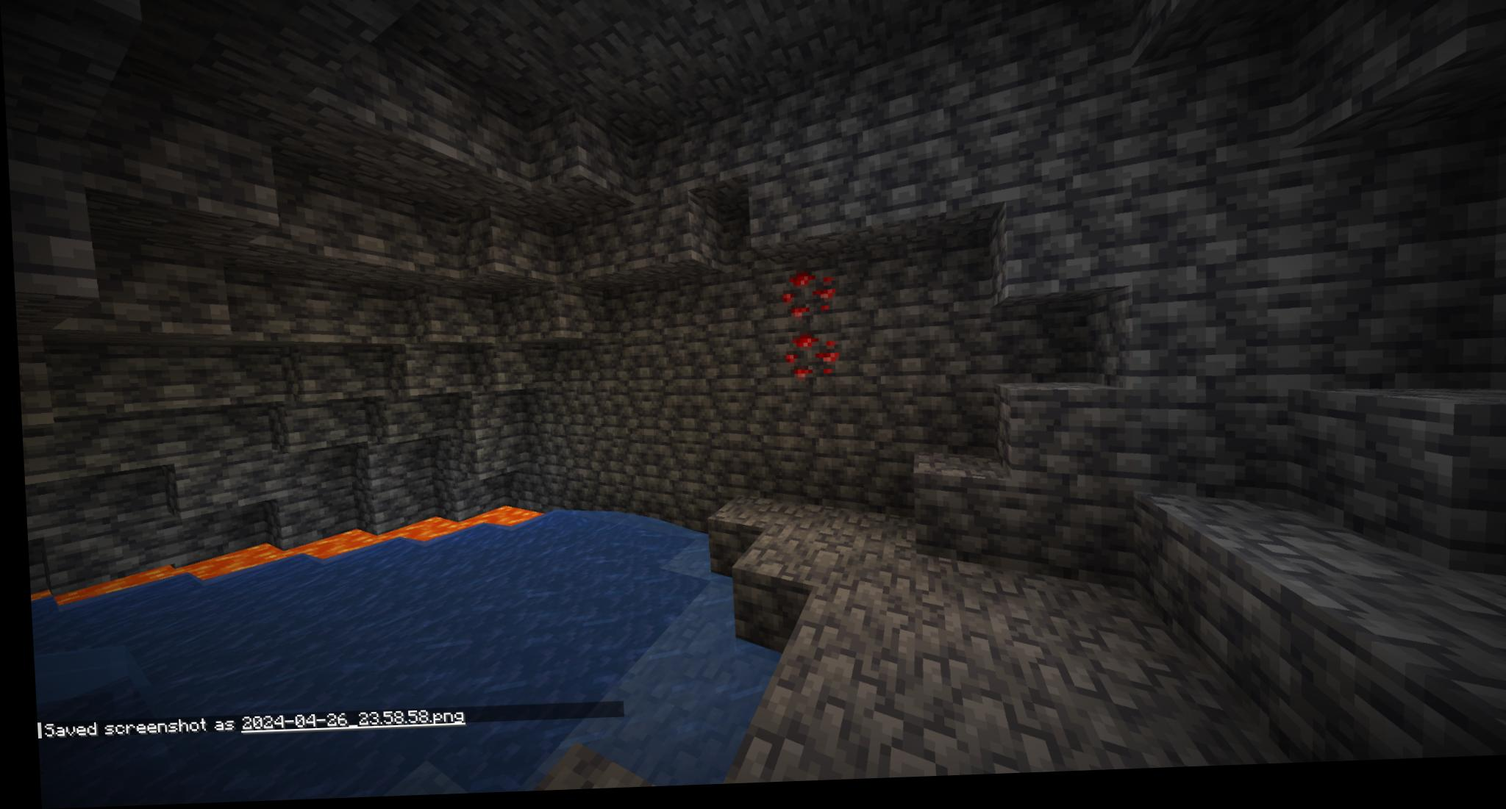redstone ore: (782, 335, 838, 392), (780, 272, 833, 326)
